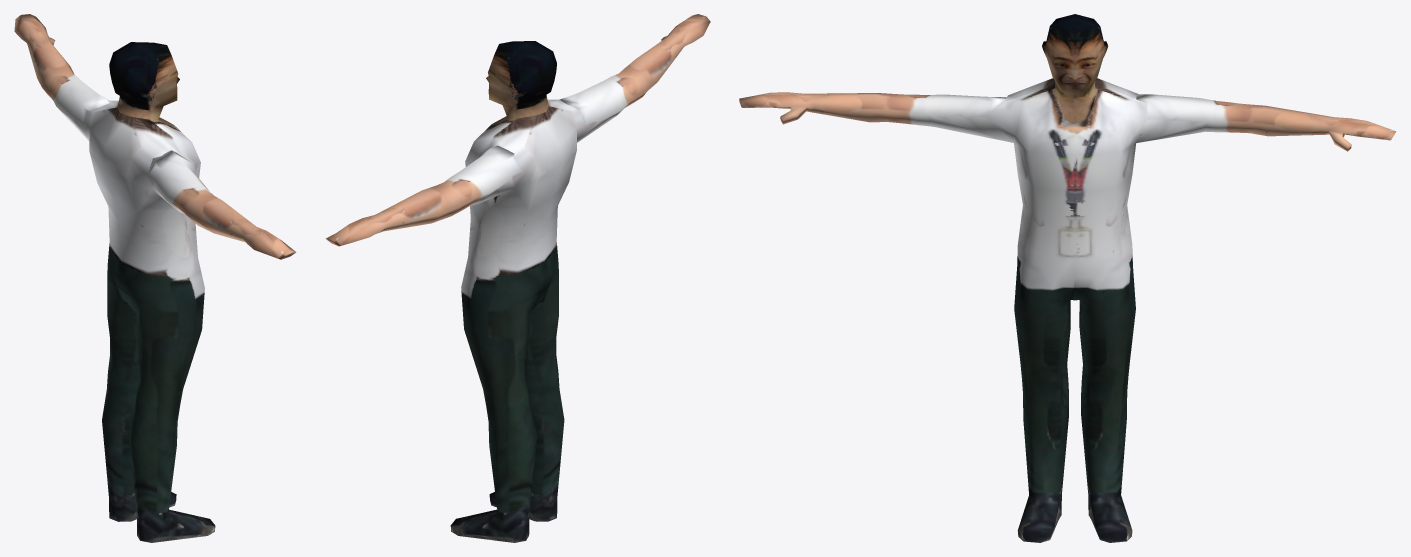
The model's file is josua.obj.
The picture shows the model from 3 angles, left to right: view 1: azimuth 30°, elevation 25°; view 2: azimuth 150°, elevation 25°; view 3: azimuth 270°, elevation 25°; orthographic projection. The views are drawn at different scales.
Parts seen in each view (by area): view 1: josua; view 2: josua; view 3: josua.
Boxes of the visible parts, box(x1,y1,x2,y2) form: josua: box(14, 14, 296, 542); josua: box(325, 14, 710, 542); josua: box(739, 14, 1396, 542).
Bounding box in the file's own units: 0.793 × 4.04 × 4.83.
